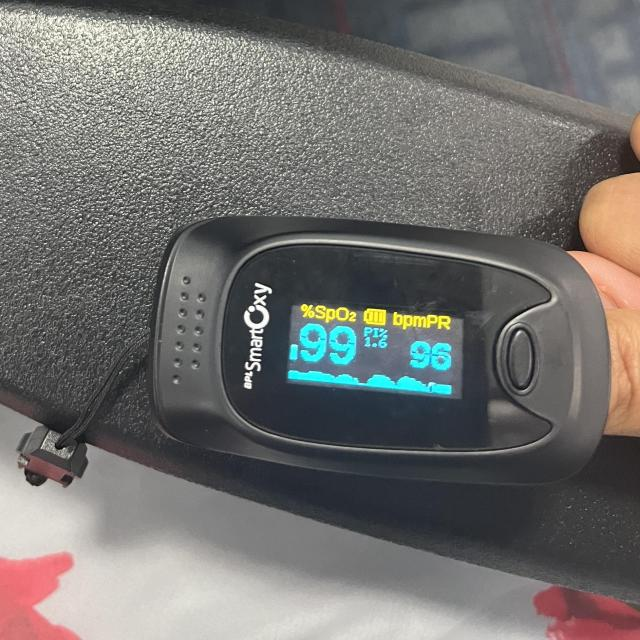spo2: (148, 218, 613, 489)
